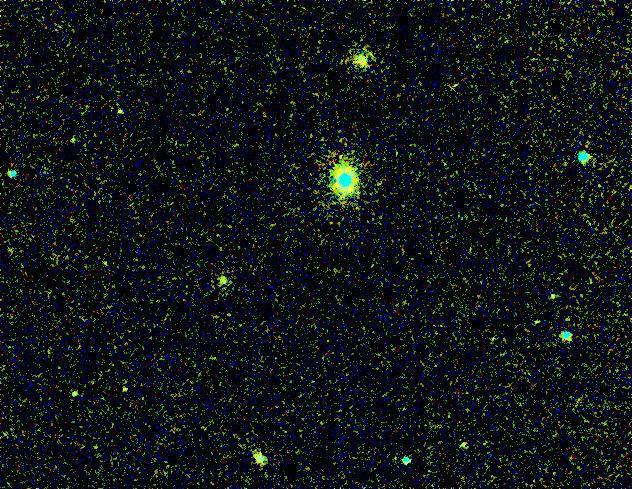star: (447, 422, 477, 452)
